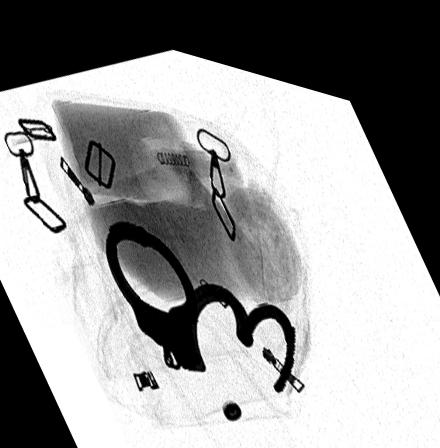HandCuffs: (105, 215, 295, 378)
